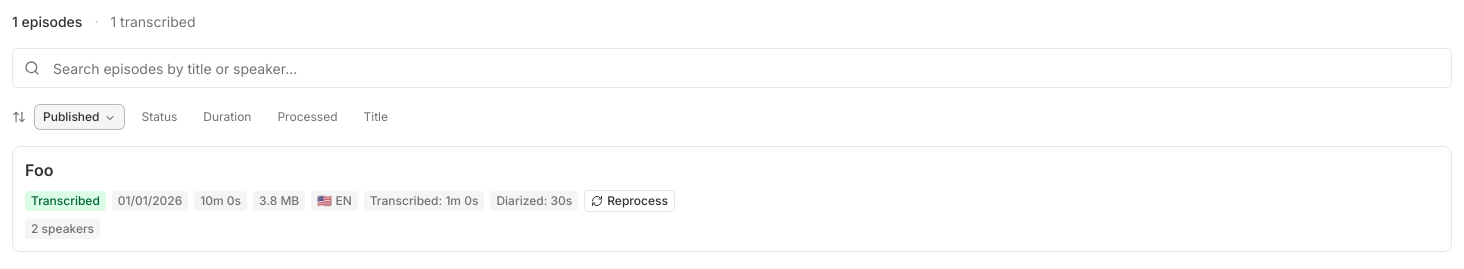
Test case: EpisodesList — search filter › clear-search button restores the unfiltered list
The image size is (1464, 269).
Type "bar" into the field labelled "Search episodes by title or speaker..." at (732, 68), box [12, 48, 1452, 88]
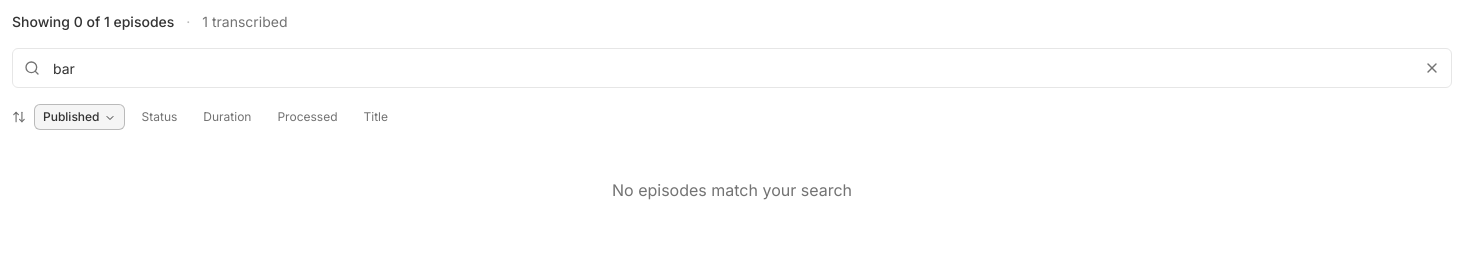
Click the button named "clear search" at (1432, 68), box [1424, 60, 1440, 76]
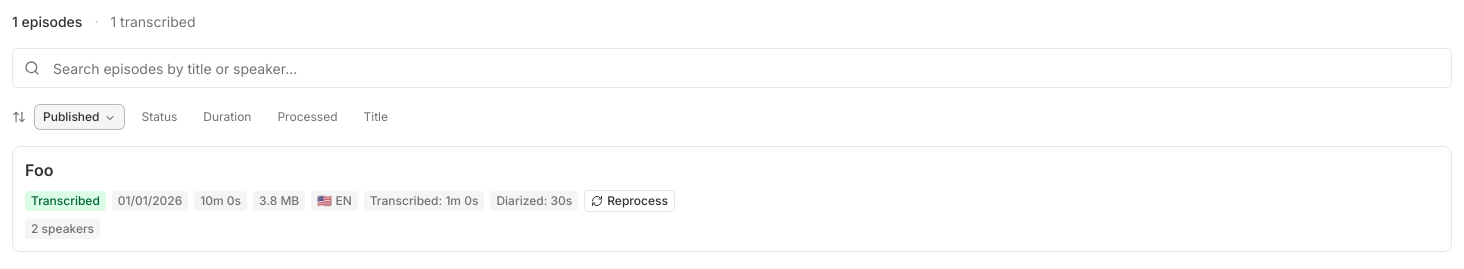
expect the field labelled "Search episodes by title or speaker..." is empty: met, box [12, 48, 1452, 88]
